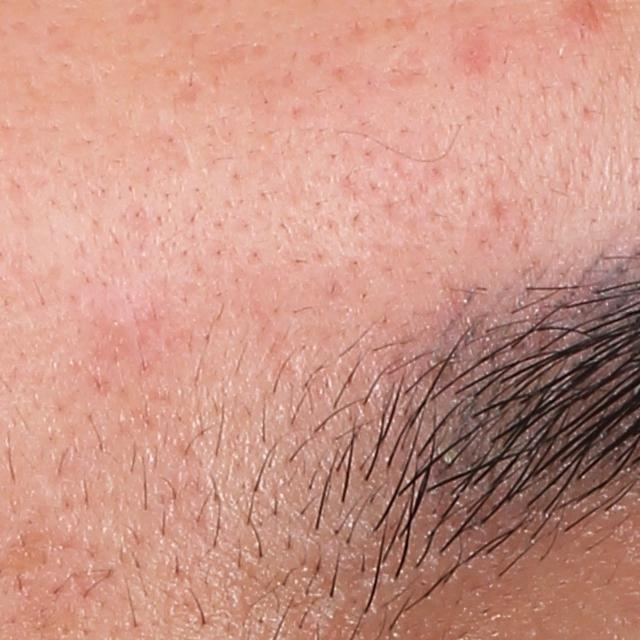atrophic_scar: (385, 43, 431, 90), (171, 74, 204, 110)
